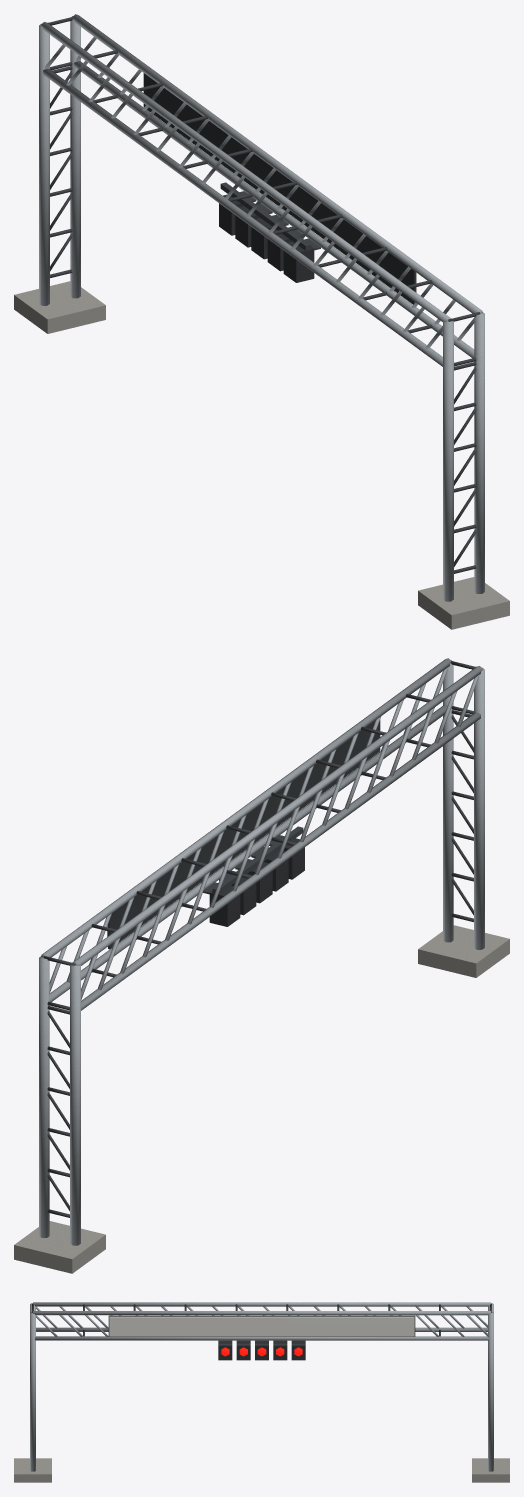
Rendered from start-gantry_mobile.glb.
3 renders of one model, top to bottom at view 1: azimuth 30°, elevation 25°; view 2: azimuth 150°, elevation 25°; view 3: azimuth 270°, elevation 25°, orthographic. The views are drawn at different scales.
Visible parts, largest first — view 1: galvanised, dark-steel, concrete, rubber; view 2: galvanised, dark-steel, concrete, rubber; view 3: galvanised, board-face, concrete, dark-steel, rubber.
Boxes of the visible parts, x1,y1,x2,y2 form: galvanised: [39, 14, 484, 601]; dark-steel: [48, 17, 480, 573]; concrete: [14, 281, 509, 629]; rubber: [219, 194, 314, 282]; galvanised: [39, 658, 484, 1245]; dark-steel: [43, 661, 475, 1217]; concrete: [14, 925, 509, 1273]; rubber: [209, 838, 304, 926]; galvanised: [30, 1302, 493, 1471]; board-face: [109, 1316, 414, 1336]; concrete: [14, 1458, 509, 1482]; dark-steel: [32, 1303, 491, 1346]; rubber: [218, 1340, 305, 1360].
Bounding box in the file's own units: 1.5 × 7.3 × 19.5.
6 materials, 4 textured.
